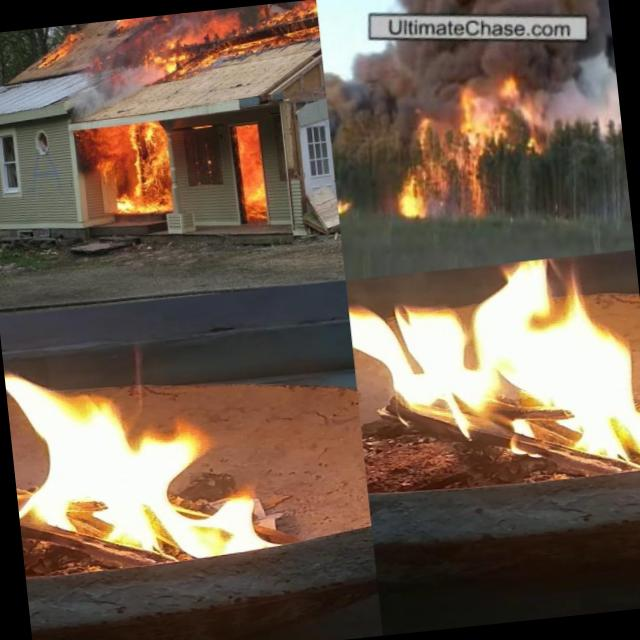fire: (345, 249, 640, 505), (4, 347, 262, 584), (386, 88, 500, 231), (76, 111, 184, 222), (119, 7, 243, 81), (230, 118, 278, 230), (254, 0, 320, 49), (486, 74, 533, 140), (34, 38, 84, 72), (336, 193, 357, 217)
smoke: (524, 42, 622, 140), (65, 48, 148, 118)
